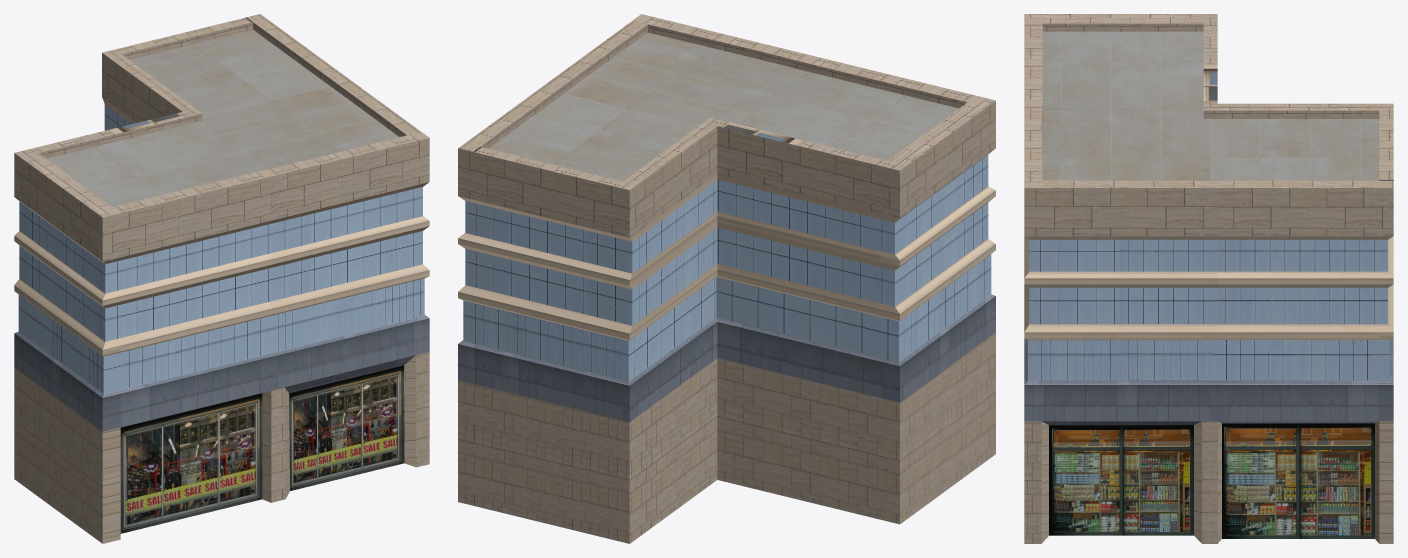
File: Pizza_Delivery house16_9.fbx
3 renders of one model, left to right at view 1: azimuth 30°, elevation 25°; view 2: azimuth 150°, elevation 25°; view 3: azimuth 270°, elevation 25°, orthographic. The views are drawn at different scales.
Visible parts, largest first — view 1: Pizza_Delivery:Pizza_Delivery:house16_9; view 2: Pizza_Delivery:Pizza_Delivery:house16_9; view 3: Pizza_Delivery:Pizza_Delivery:house16_9.
Boxes of the visible parts, box(x1,y1,x2,y2) form: Pizza_Delivery:Pizza_Delivery:house16_9: box(14, 14, 429, 543); Pizza_Delivery:Pizza_Delivery:house16_9: box(458, 14, 995, 543); Pizza_Delivery:Pizza_Delivery:house16_9: box(1024, 14, 1393, 543).
Bounding box in the file's own units: 13.2 × 12.59 × 11.84.
